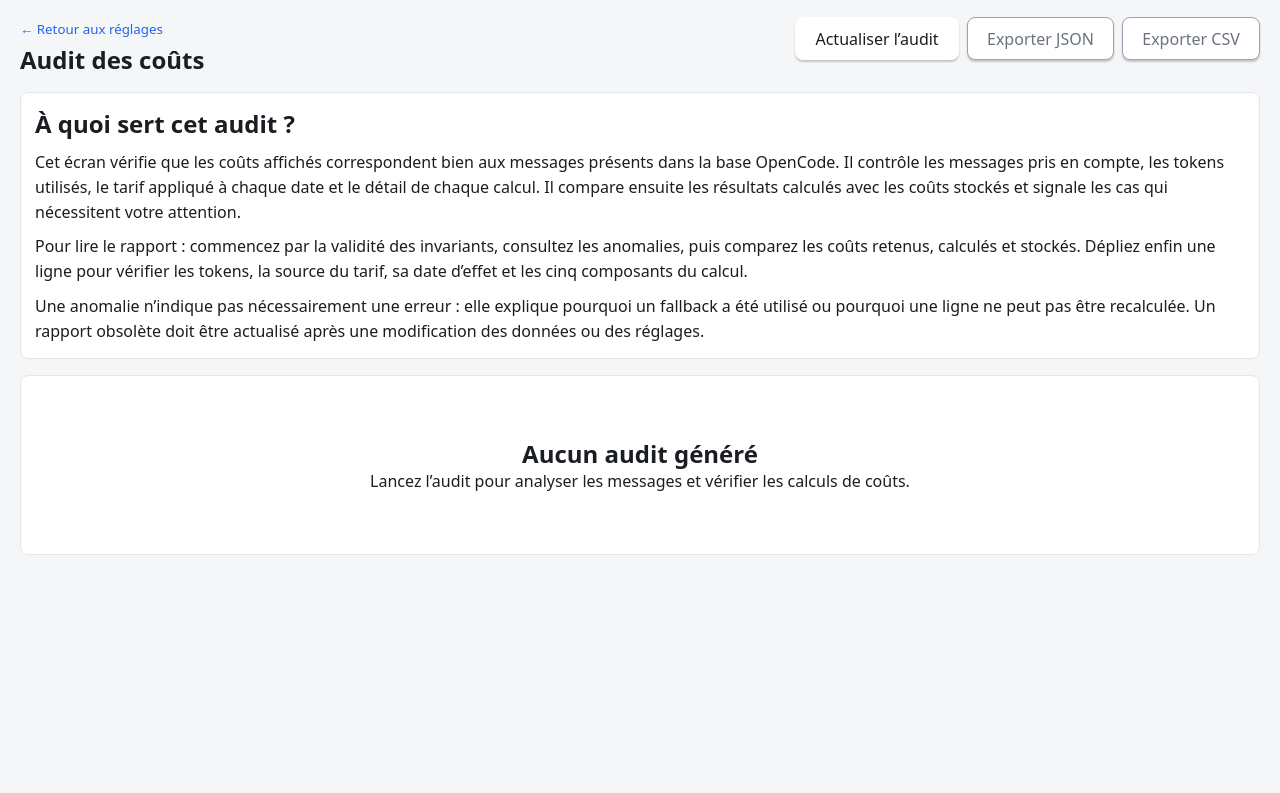
Test: AuditView › announces the invariant failure associated with an expanded message
This screenshot has width=1280, height=793.
Click the button "Actualiser l’audit": {"x": 877, "y": 39} [795,17,959,60]
(page scrolled)
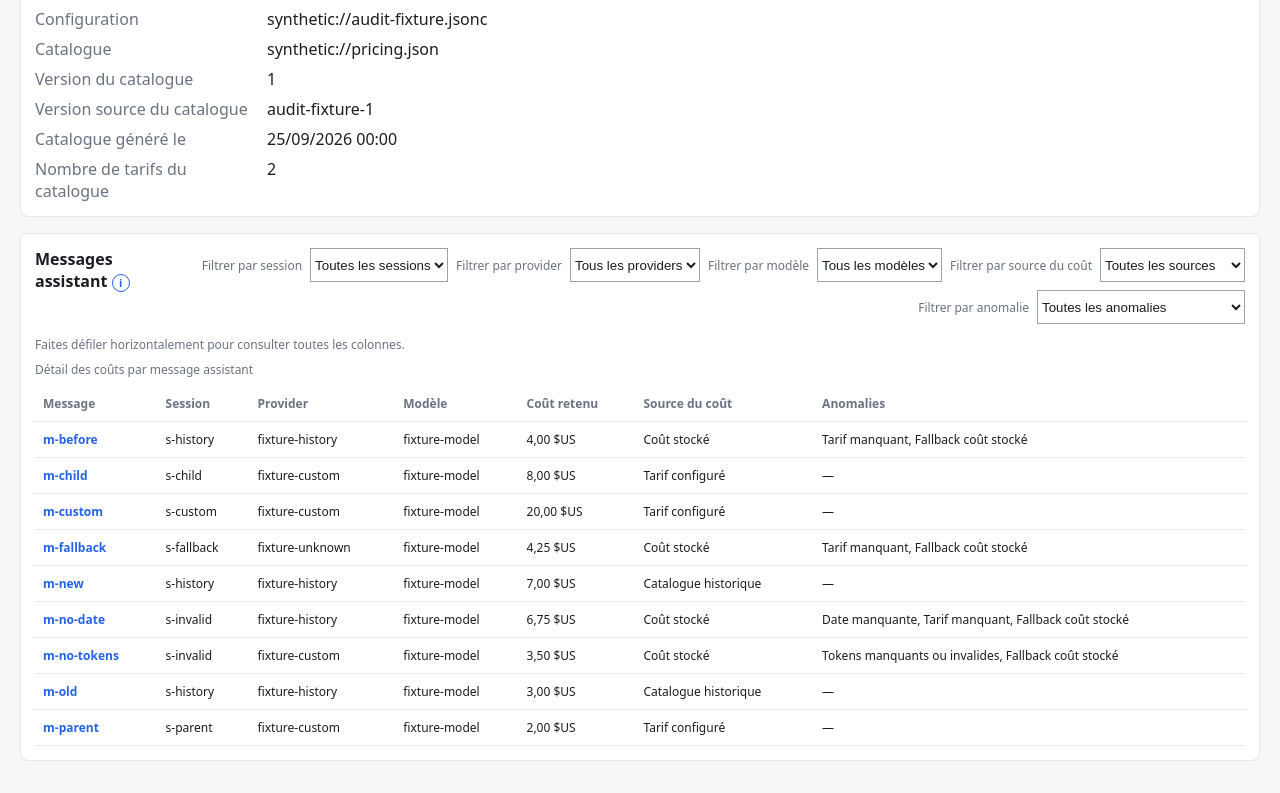
Click the button "m-custom": {"x": 73, "y": 512} [43,503,103,520]
(page scrolled)
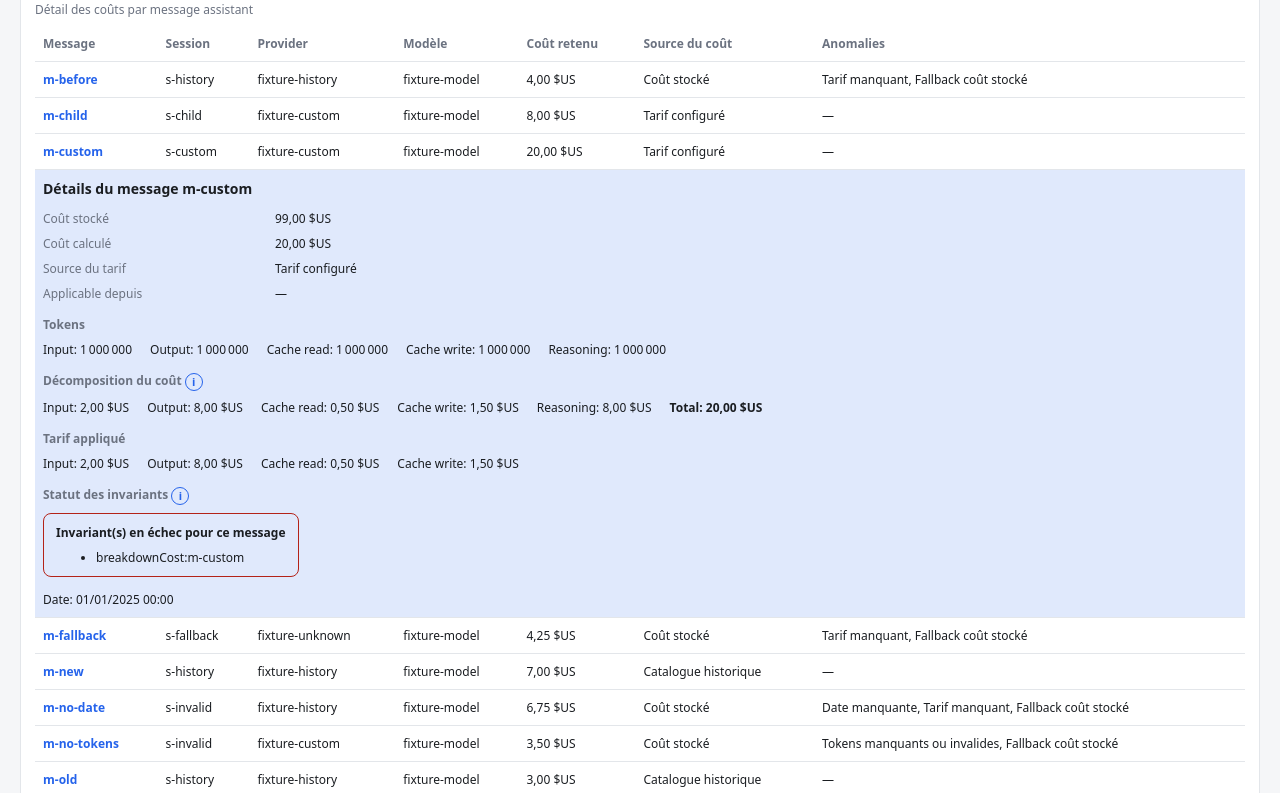
Check: the message "Invariant(s) en échec pour ce message breakdownCost:m-custom" is shown, box [43,513,298,577]
Check: the row with class "audit-details-row" shows "breakdownCost:m-custom", box [96,549,244,566]
